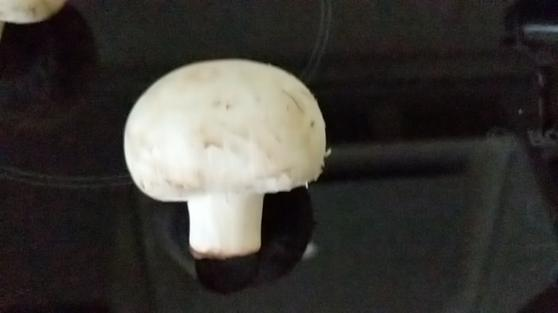champignon: (126, 59, 330, 252)
